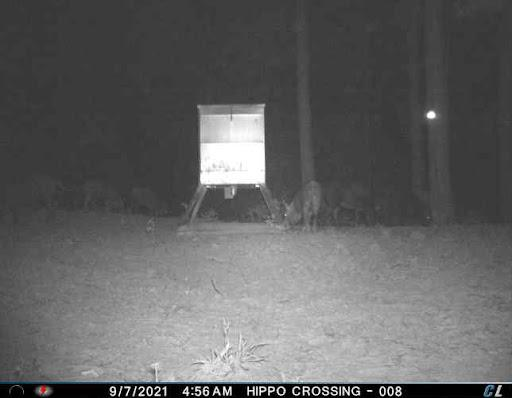Hog: (5, 169, 74, 225), (324, 179, 382, 228), (386, 181, 436, 234), (276, 181, 326, 233), (79, 179, 130, 220), (140, 179, 178, 218)
